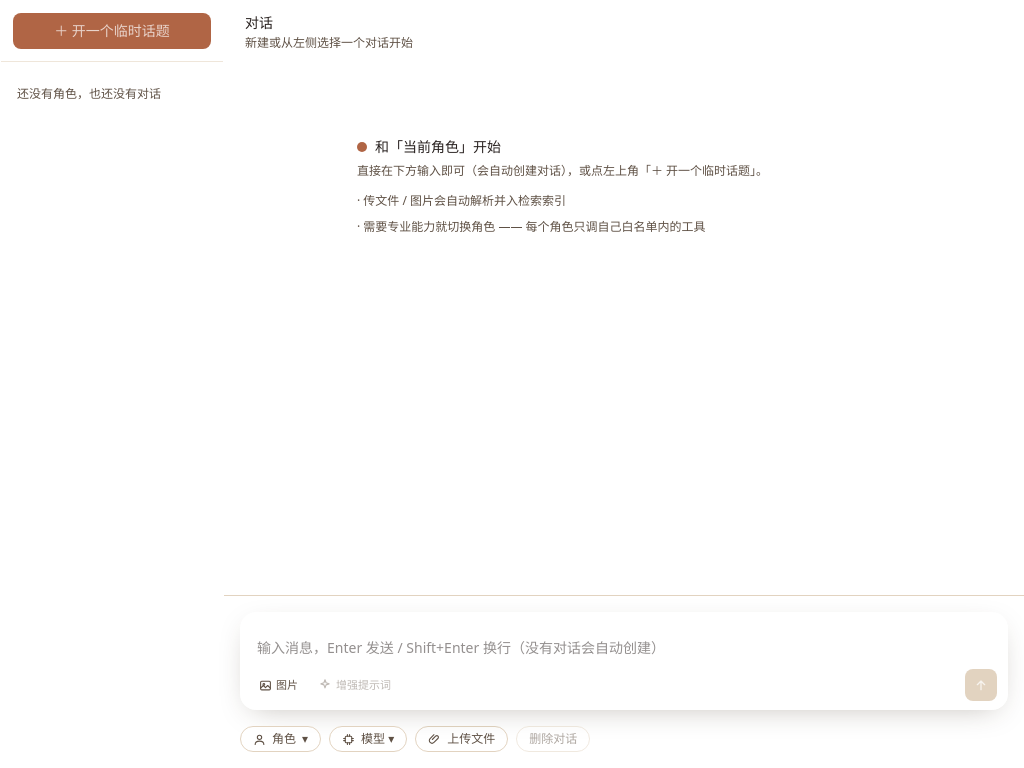
Test: ChatPage 流式渲染 › thinking 事件渲染为可折叠的思考面板（AI IDE 式）
Step 1. Type "带思考的一问" into the text box with placeholder "输入消息，Enter 发送 / Shift+Enter 换行（没有对话会自动创建）" → [624, 644], box [241,625,1007,664]
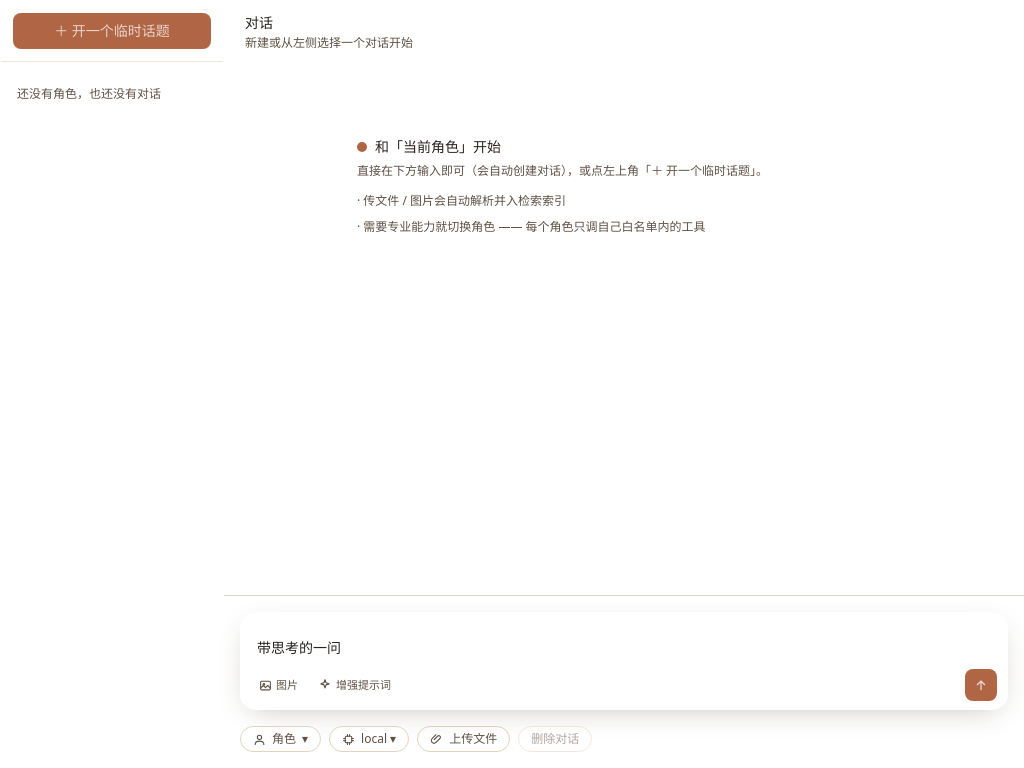
Step 2. Click the button named "发送" → [981, 685], box [965,669,997,701]
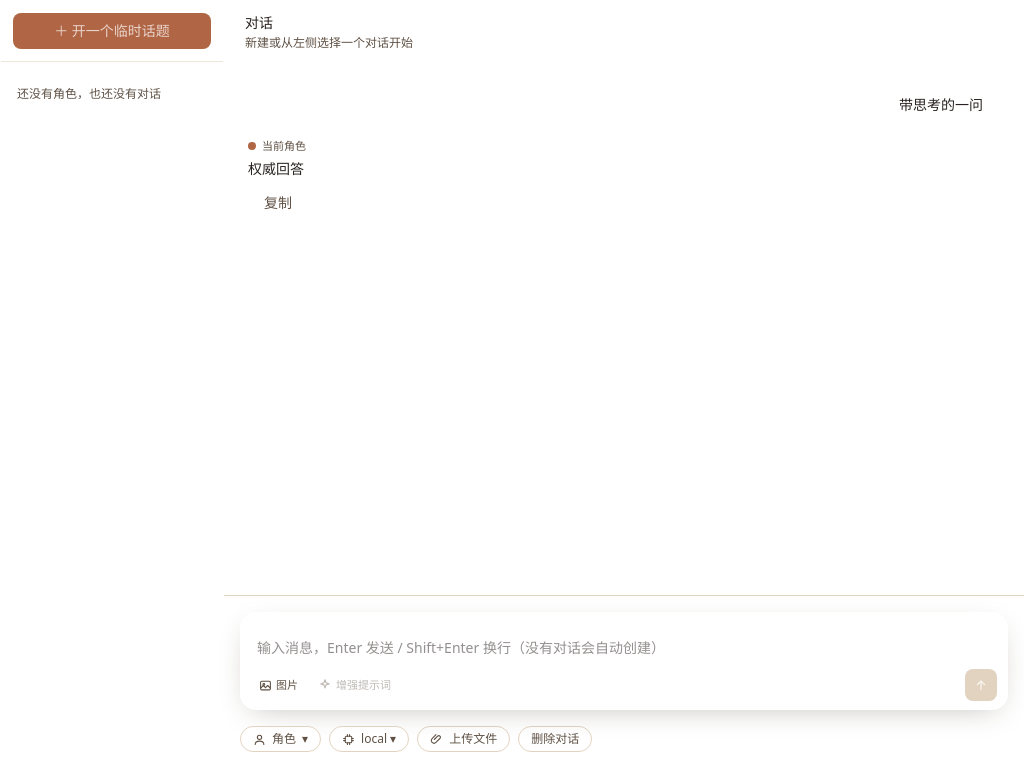
Expected: the text "权威回答" is shown, [248,159,304,178]
